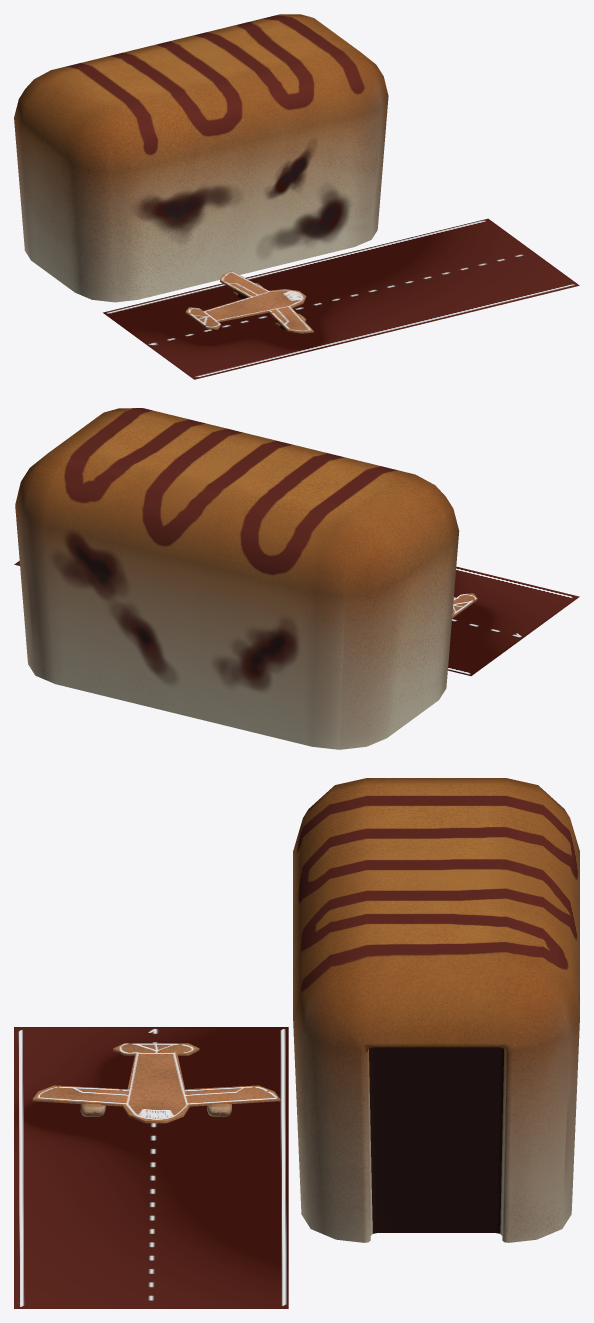
The model's file is Mod_Tier3.gltf.
The picture shows the model from 3 angles, top to bottom: view 1: azimuth 30°, elevation 25°; view 2: azimuth 150°, elevation 25°; view 3: azimuth 270°, elevation 25°; orthographic projection. The views are drawn at different scales.
Visible parts, largest first — view 1: Tier3; view 2: Tier3; view 3: Tier3.
Boxes of the visible parts, x1,y1,x2,y2 form: Tier3: (14,14,579,379); Tier3: (14,408,579,749); Tier3: (14,778,579,1308).
Size of the model in its own units: 14.78 by 6.37 by 12.24.
1 material, 1 textured.
